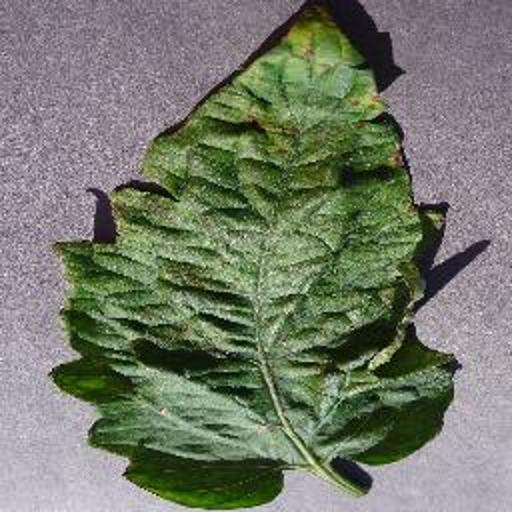Target Spot: (107, 42, 438, 494)
